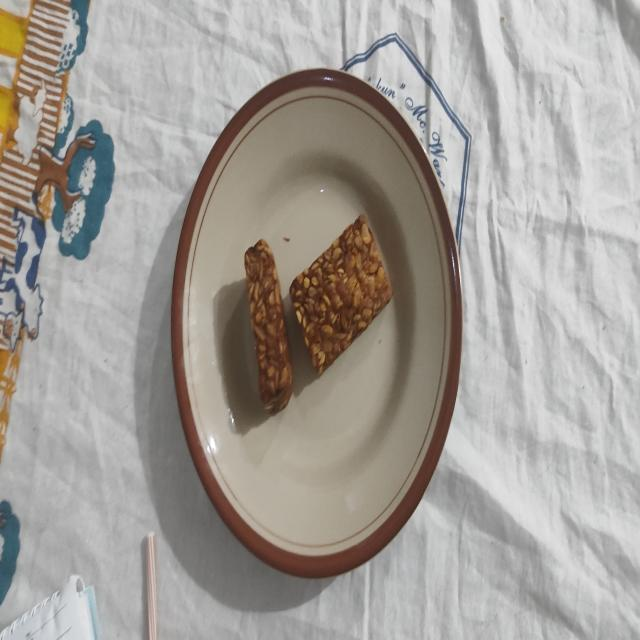tempe_goreng: (290, 216, 392, 373), (244, 239, 292, 413)
